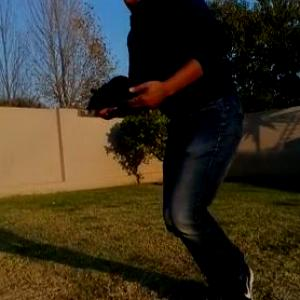follow: (84, 0, 261, 299)
